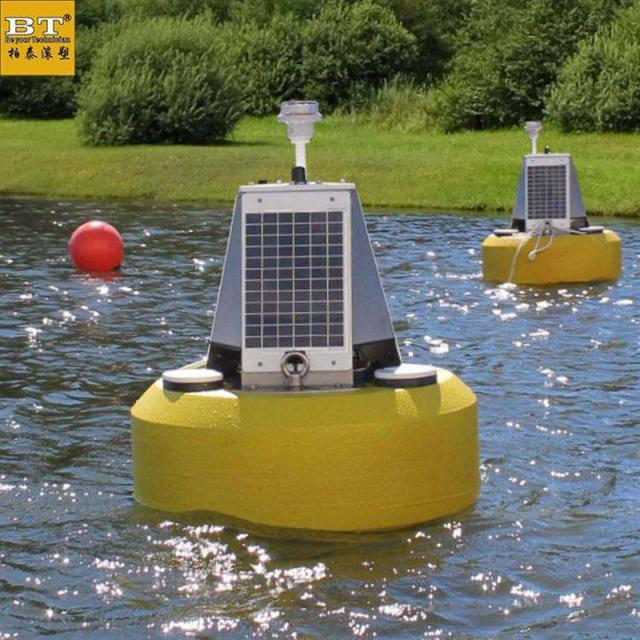buoy: (127, 97, 476, 536), (481, 113, 626, 290)
